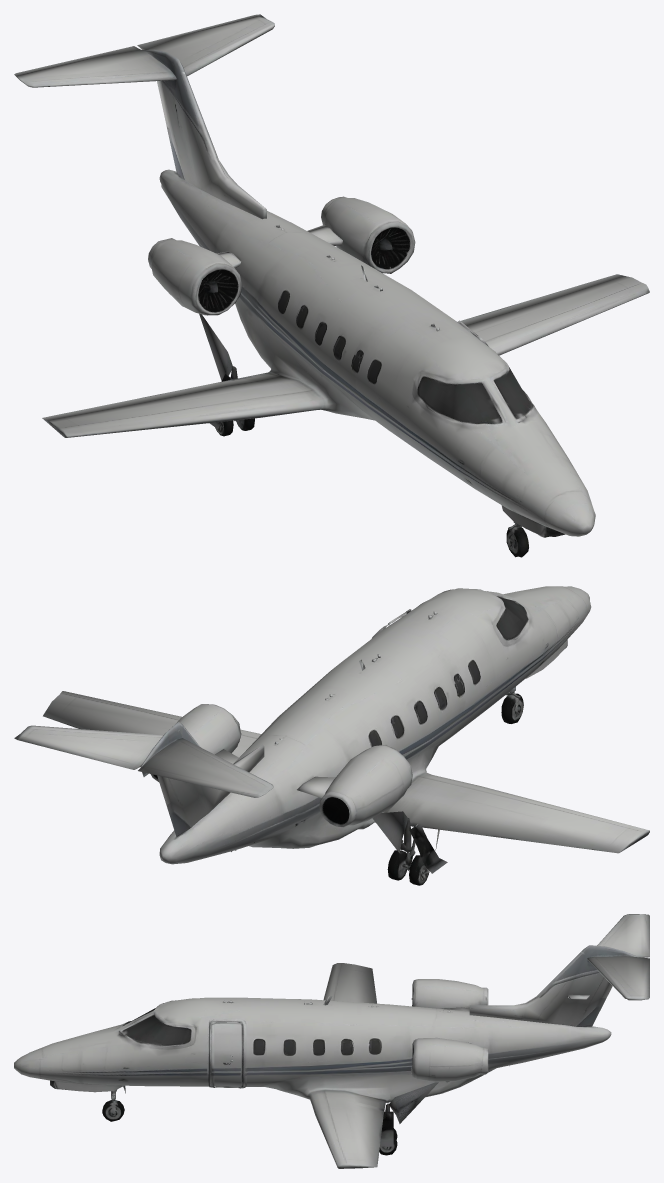
The model's file is aviao_executivo.glb.
The picture shows the model from 3 angles, top to bottom: view 1: azimuth 30°, elevation 25°; view 2: azimuth 150°, elevation 25°; view 3: azimuth 270°, elevation 25°; orthographic projection. The views are drawn at different scales.
Parts seen in each view (by area): view 1: Avião executivo fictício; view 2: Avião executivo fictício; view 3: Avião executivo fictício.
Boxes of the visible parts, <box> form: Avião executivo fictício: <box>14,14,649,557</box>; Avião executivo fictício: <box>14,586,649,885</box>; Avião executivo fictício: <box>14,914,649,1168</box>.
Bounding box in the file's own units: 0.748 × 0.3027 × 0.998.
Materials: 1 (1 with a texture image).
